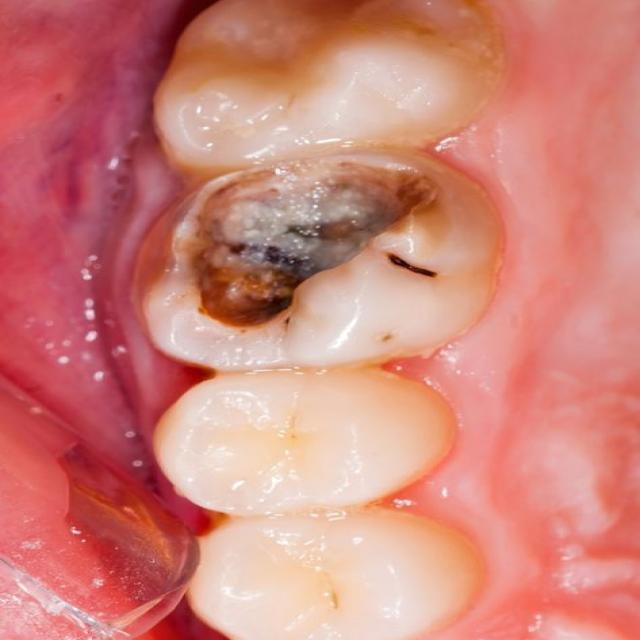caries: (166, 161, 452, 339)
